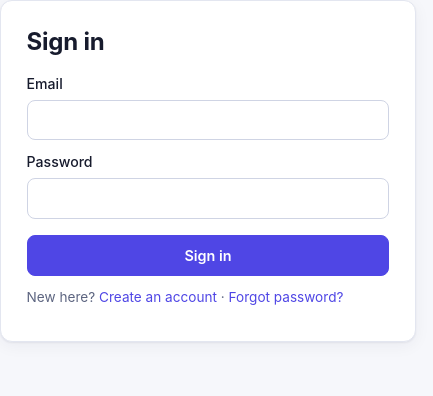
Test: AuthPage sign in › tells the user when they are being throttled
The width and height of the screenshot is (433, 396).
Type "me@example.com" into the field labelled "Email". click: (208, 120)
box: [27, 100, 389, 140]
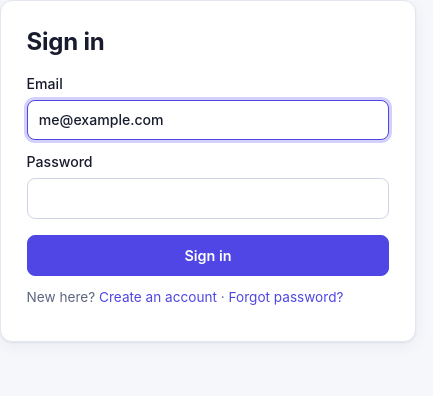
Type "whatever" into the password field labelled "Password". click: (208, 198)
box: [27, 178, 389, 219]
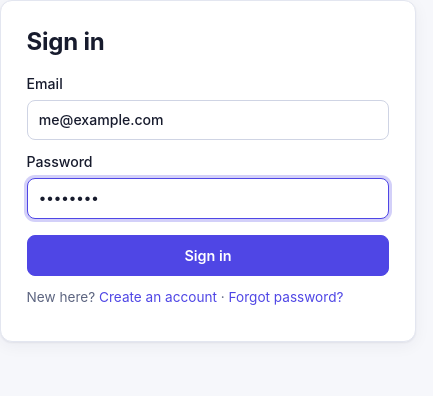
Click the button "Sign in". click: click(208, 256)
box: [27, 235, 389, 276]
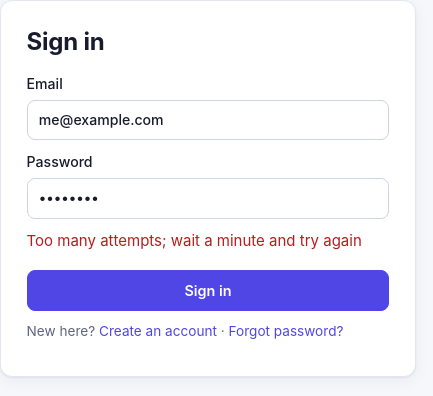
Expected: the message shows "Too many attempts", [27, 231, 362, 250]
